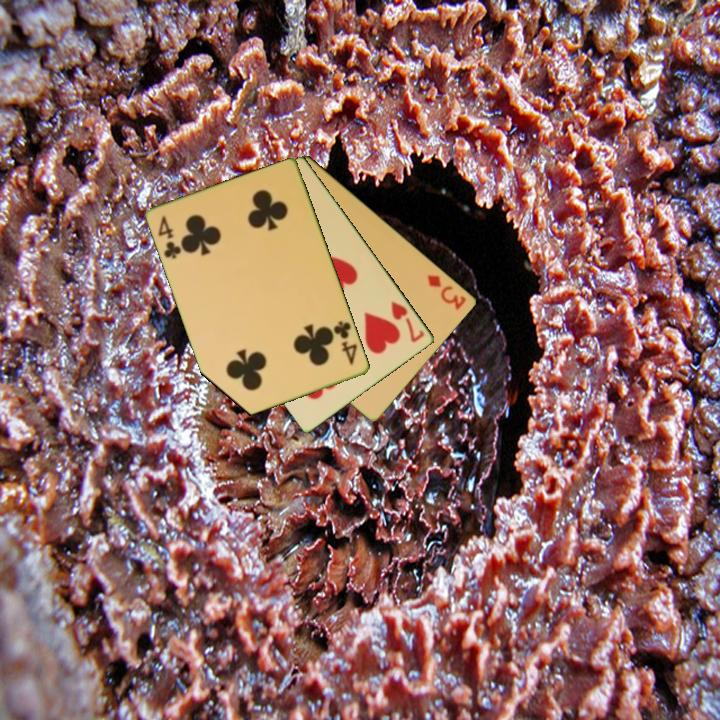3d: (424, 271, 469, 313)
4c: (330, 317, 360, 368), (155, 212, 185, 262)
7h: (388, 297, 428, 346)
